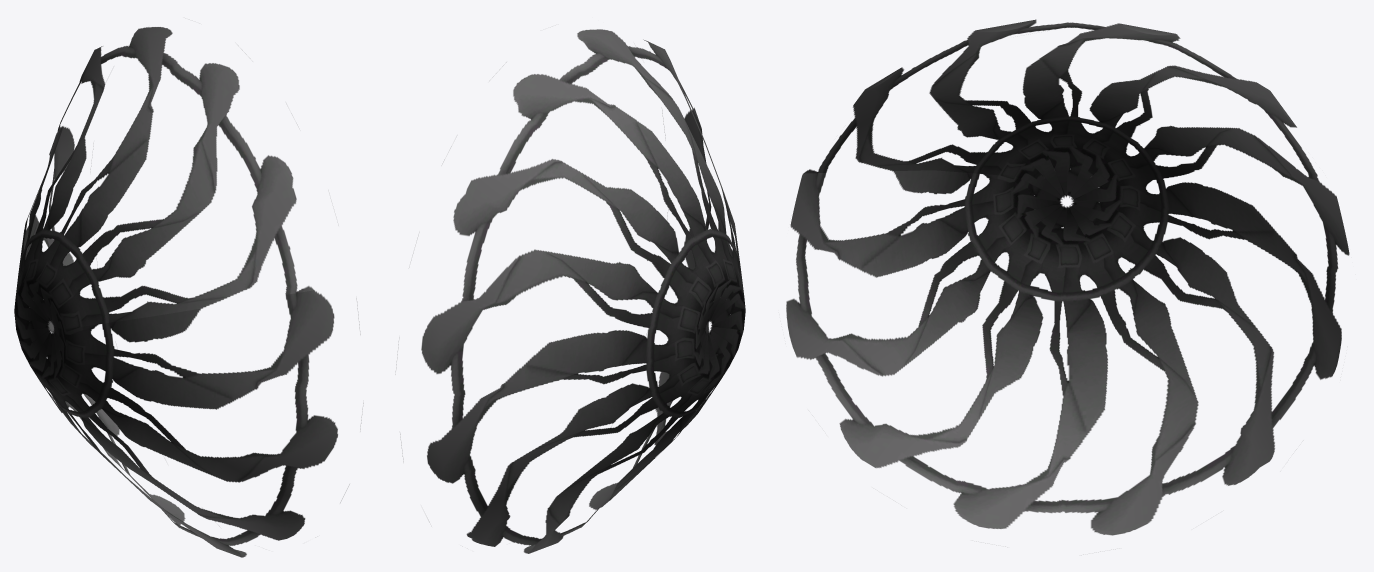
Rendered from Aegis-blade1.glb.
3 views of the same model, side by side, from view 1: azimuth 30°, elevation 25°; view 2: azimuth 150°, elevation 25°; view 3: azimuth 270°, elevation 25° (orthographic). The views are drawn at different scales.
Visible parts, largest first — view 1: Aegis_Blade_bottom_0.002; view 2: Aegis_Blade_bottom_0.002; view 3: Aegis_Blade_bottom_0.002.
Boxes of the visible parts, box(x1,y1,x2,y2) form: Aegis_Blade_bottom_0.002: box(14, 27, 363, 557); Aegis_Blade_bottom_0.002: box(396, 29, 745, 553); Aegis_Blade_bottom_0.002: box(786, 19, 1349, 535).
Size of the model in its own units: 0.7036 by 1.8 by 1.8.
Materials: 1 (1 with a texture image).
